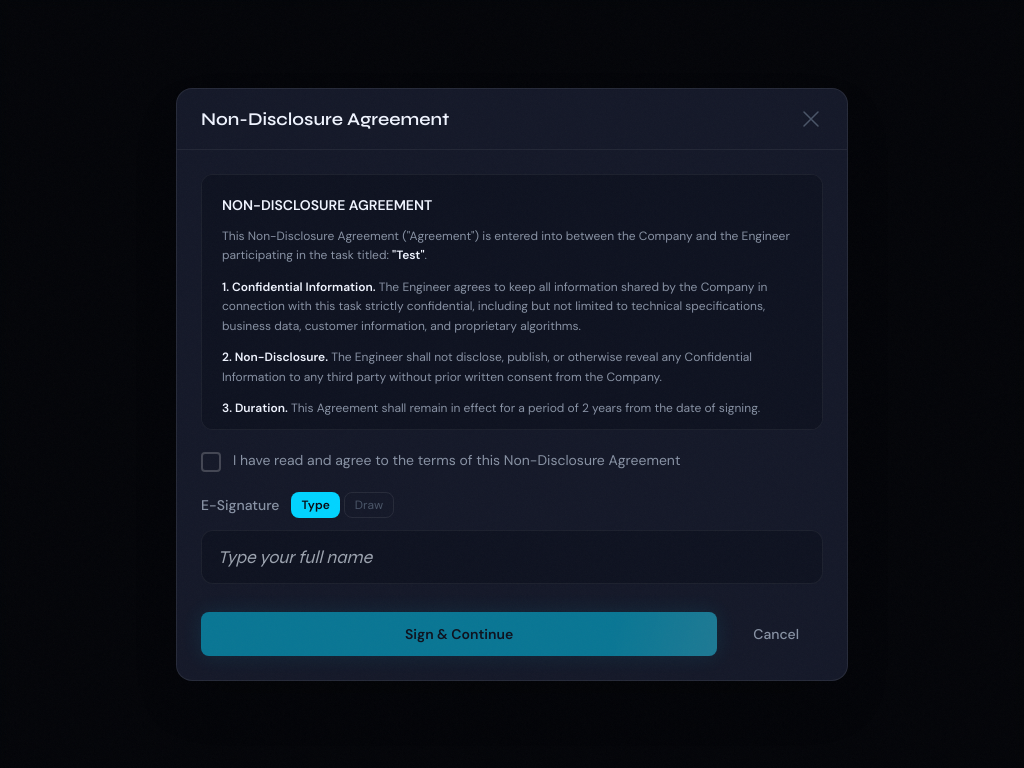
Test case: NDAModal — signature canvas (touch device support) › Sign button enables after checking agreement and typing signature
Step 1. Click the checkbox → (211, 462), box x1=201 y1=452 x2=221 y2=472
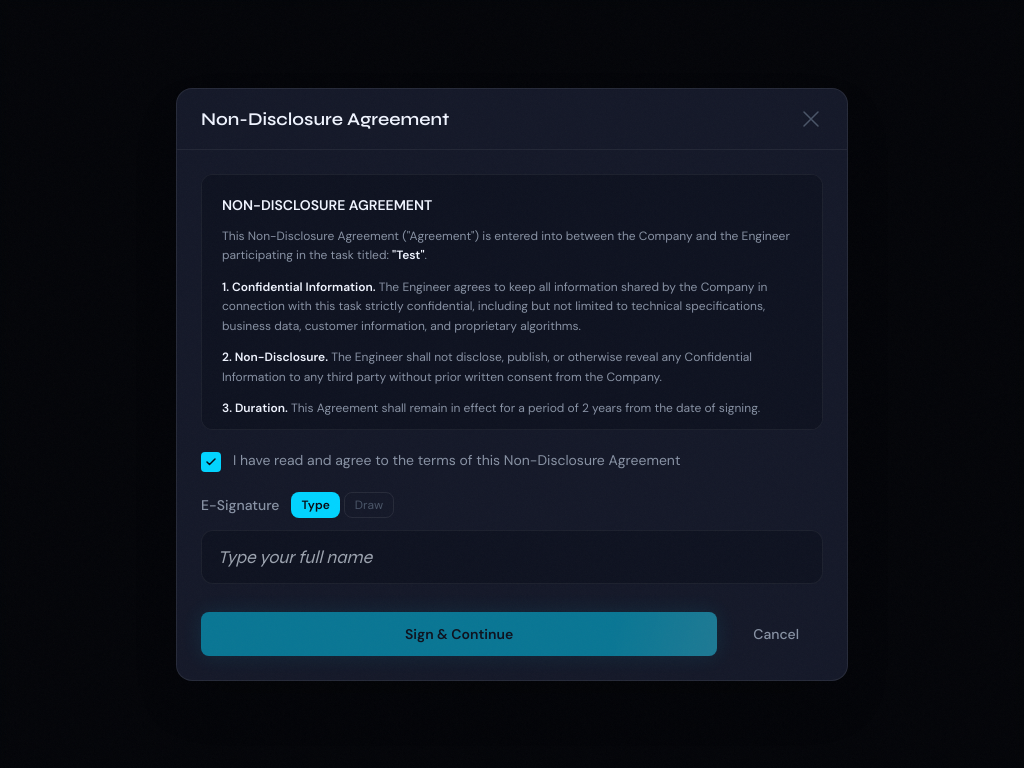
Step 2. Type "Arjun Sharma" into the field with test id "nda-signature-input" → (512, 556), box x1=201 y1=530 x2=823 y2=584
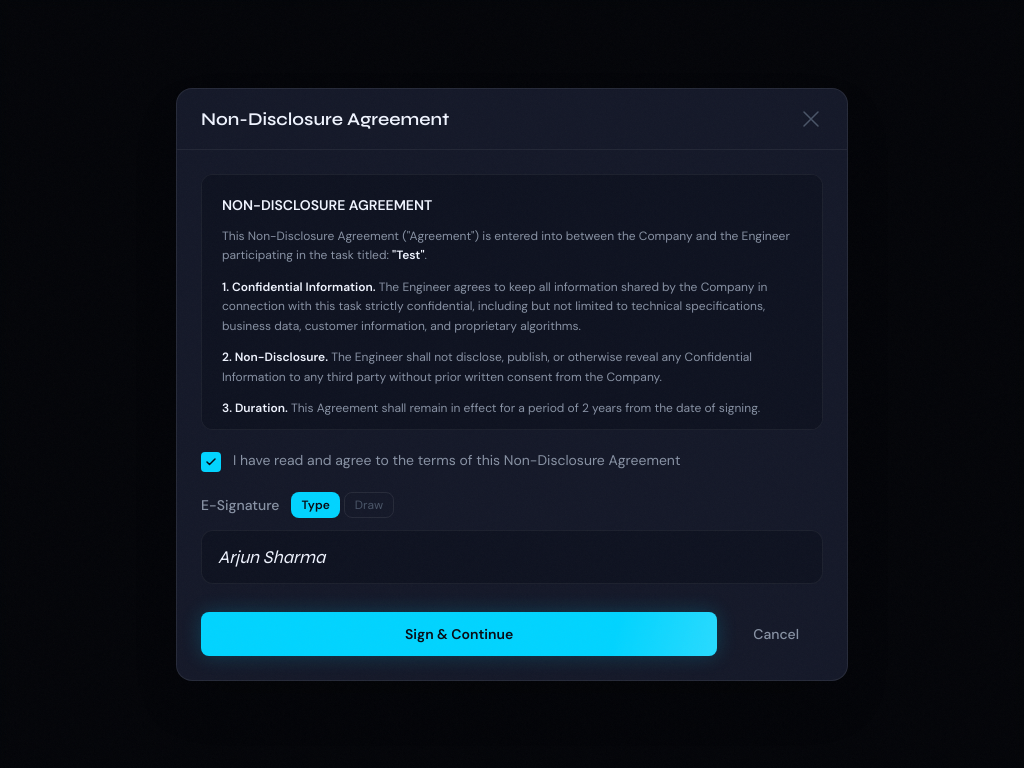
Check: the button with test id "nda-sign-btn" is enabled, box x1=201 y1=612 x2=717 y2=656
